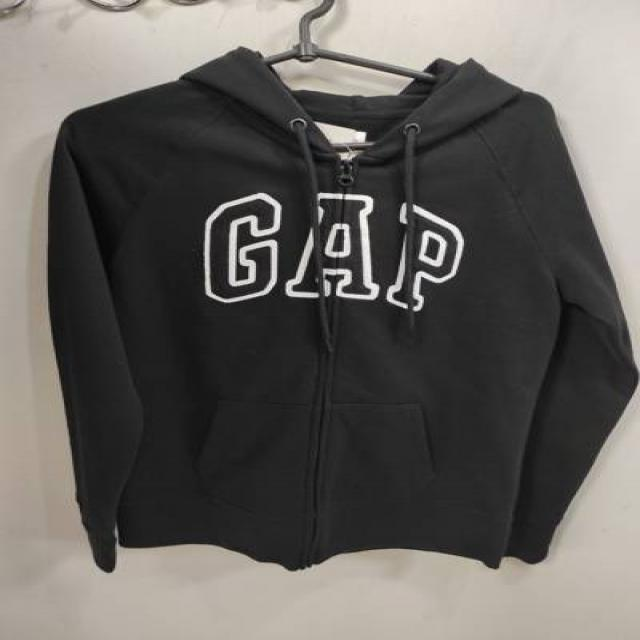Clothes -Biodegradable-: (48, 44, 630, 577)
